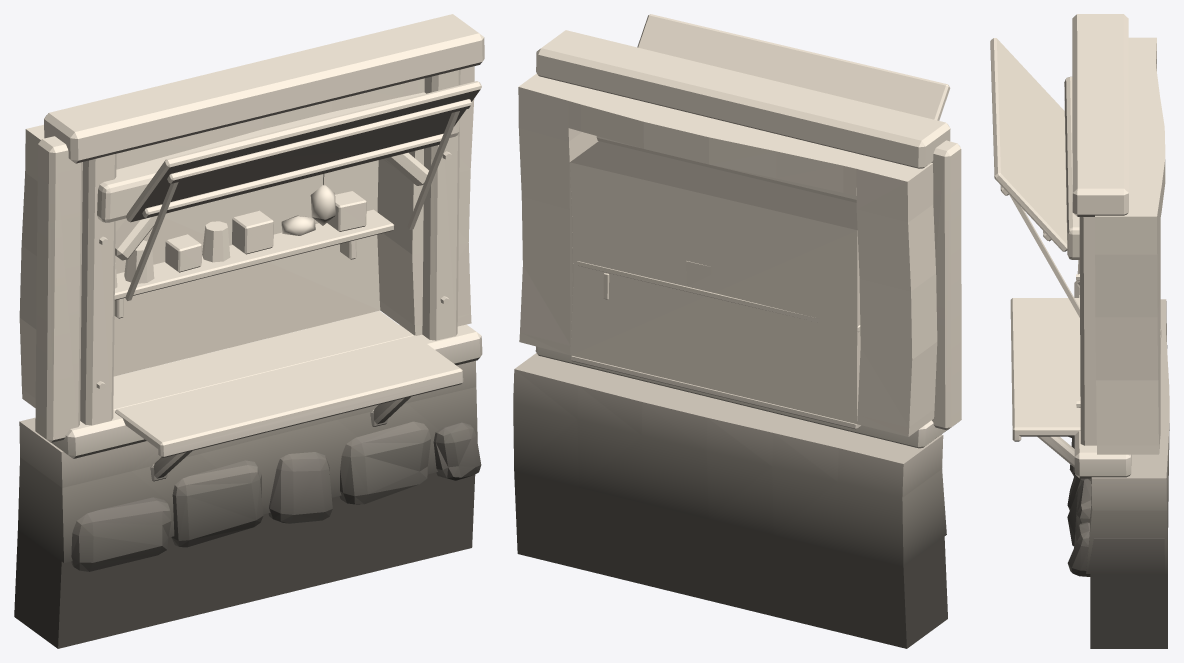
The model's file is SM_VK_Wall_Plaster_Shop.fbx.
3 views of the same model, side by side, from view 1: azimuth 30°, elevation 25°; view 2: azimuth 150°, elevation 25°; view 3: azimuth 270°, elevation 25° (orthographic). The views are drawn at different scales.
Visible parts, largest first — view 1: SM_VK_Wall_Plaster_Shop.001; view 2: SM_VK_Wall_Plaster_Shop.001; view 3: SM_VK_Wall_Plaster_Shop.001.
Boxes of the visible parts, <box> form: SM_VK_Wall_Plaster_Shop.001: <box>14,14,484,648</box>; SM_VK_Wall_Plaster_Shop.001: <box>513,14,961,648</box>; SM_VK_Wall_Plaster_Shop.001: <box>990,14,1169,648</box>.
Bounding box in the file's own units: 3.13 × 3.6 × 1.27.
